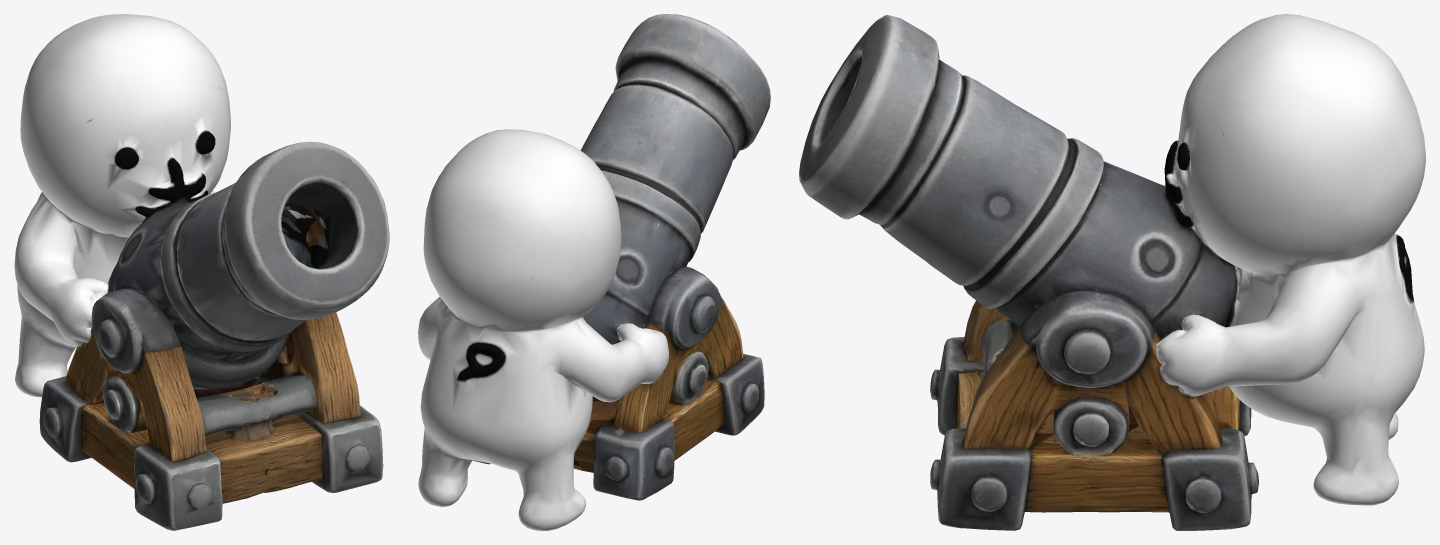
Rendered from Canon.glb.
3 views of the same model, side by side, from view 1: azimuth 30°, elevation 25°; view 2: azimuth 150°, elevation 25°; view 3: azimuth 270°, elevation 25° (orthographic). The views are drawn at different scales.
Size of the model in its own units: 0.9571 by 1.49 by 1.9.
1 material, 1 textured.
